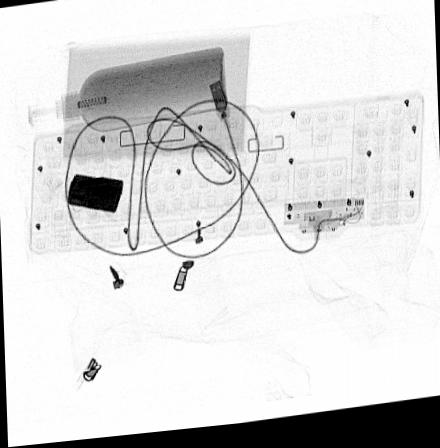Lighter: (67, 176, 124, 215)
